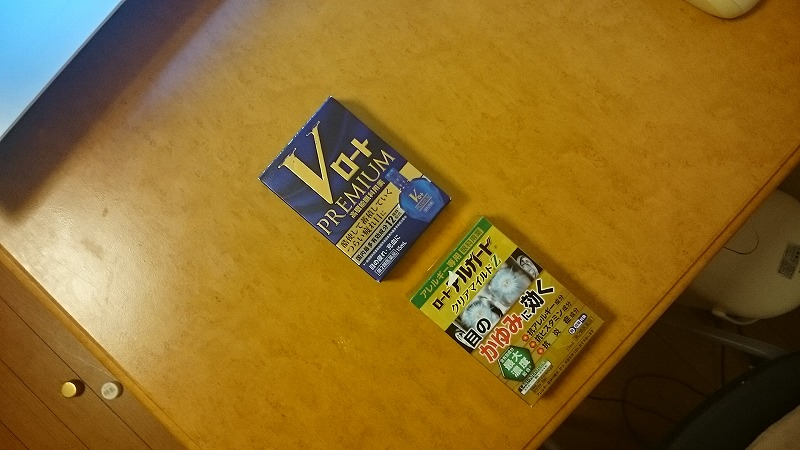C: (402, 211, 610, 410)
D: (249, 89, 454, 287)
